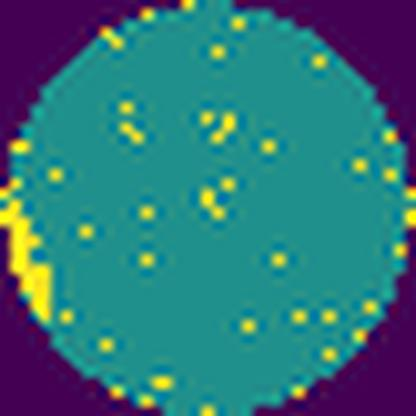Edge-Loc: (0, 198, 49, 332)
